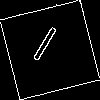I: (25, 25, 60, 71)
